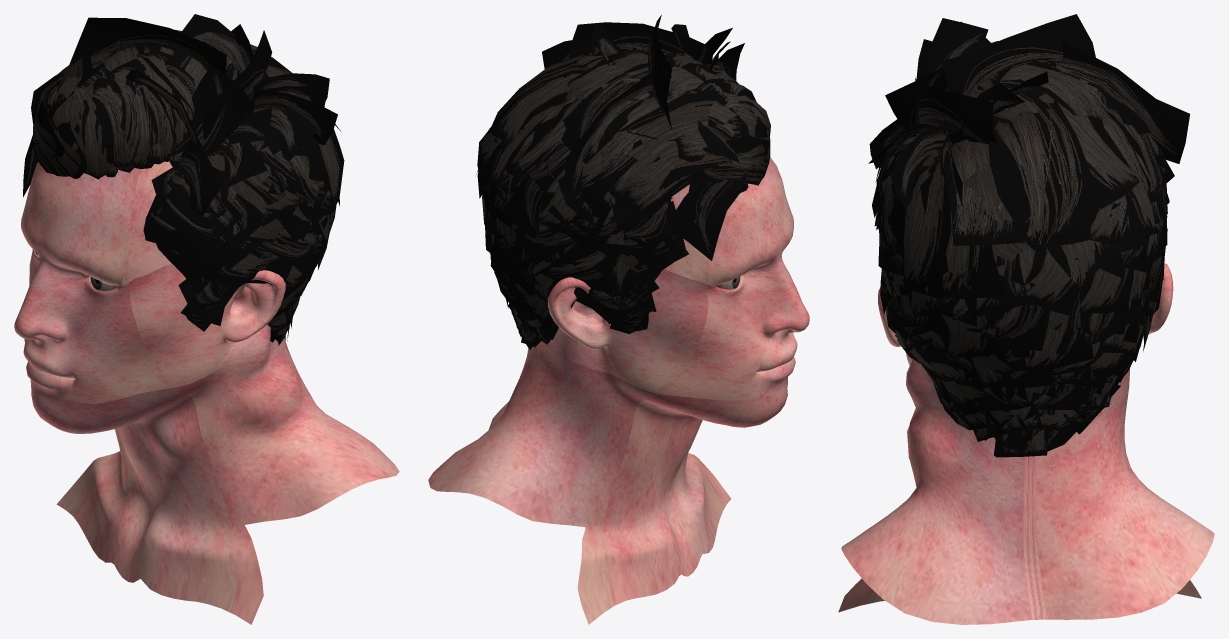
Rendered from JoeGanblios.fbx.
3 views of the same model, side by side, from view 1: azimuth 30°, elevation 25°; view 2: azimuth 150°, elevation 25°; view 3: azimuth 270°, elevation 25° (orthographic). The views are drawn at different scales.
Visible parts, largest first — view 1: Face, Hair; view 2: Face, Hair; view 3: Hair, Face.
Boxes of the visible parts, <box> form: Face: <box>14,161,399,624</box>; Hair: <box>23,14,344,345</box>; Face: <box>428,157,809,624</box>; Hair: <box>476,15,770,349</box>; Hair: <box>868,14,1189,457</box>; Face: <box>838,263,1214,624</box>.
Bounding box in the file's own units: 23.65 × 35.94 × 21.05.
Materials: 4 (4 with a texture image).
